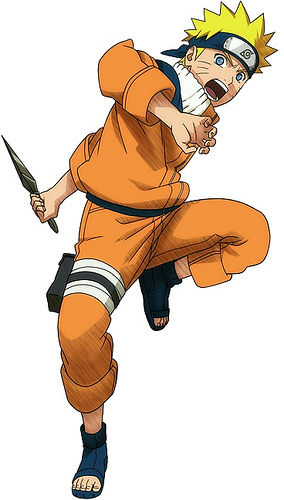naruto: (181, 29, 262, 108)
